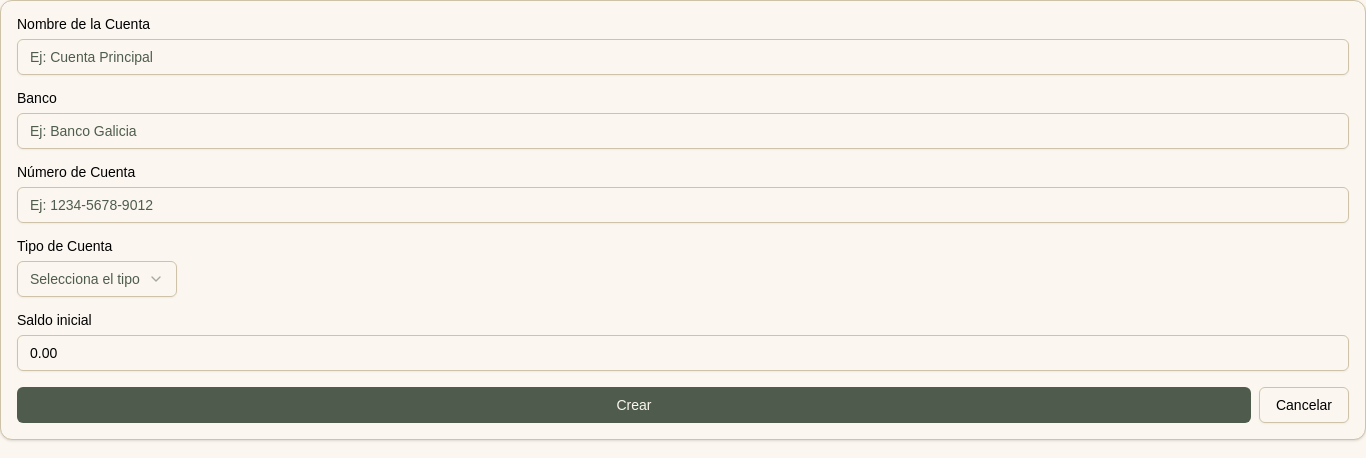
Test case: BankAccountForm › caps the initial balance to 2 decimals while typing
Replace the text in the field labelled "Saldo inicial" with "10,999" at (683, 353), box [17,335,1349,371]
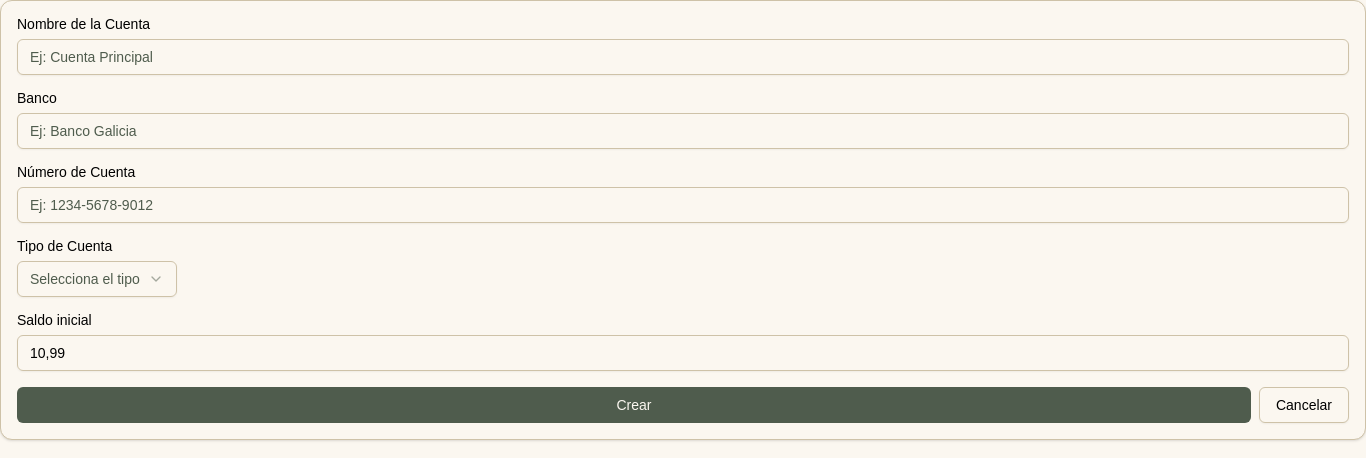
Result: the field labelled "Saldo inicial" holds "10,99" at [17,335,1349,371]
